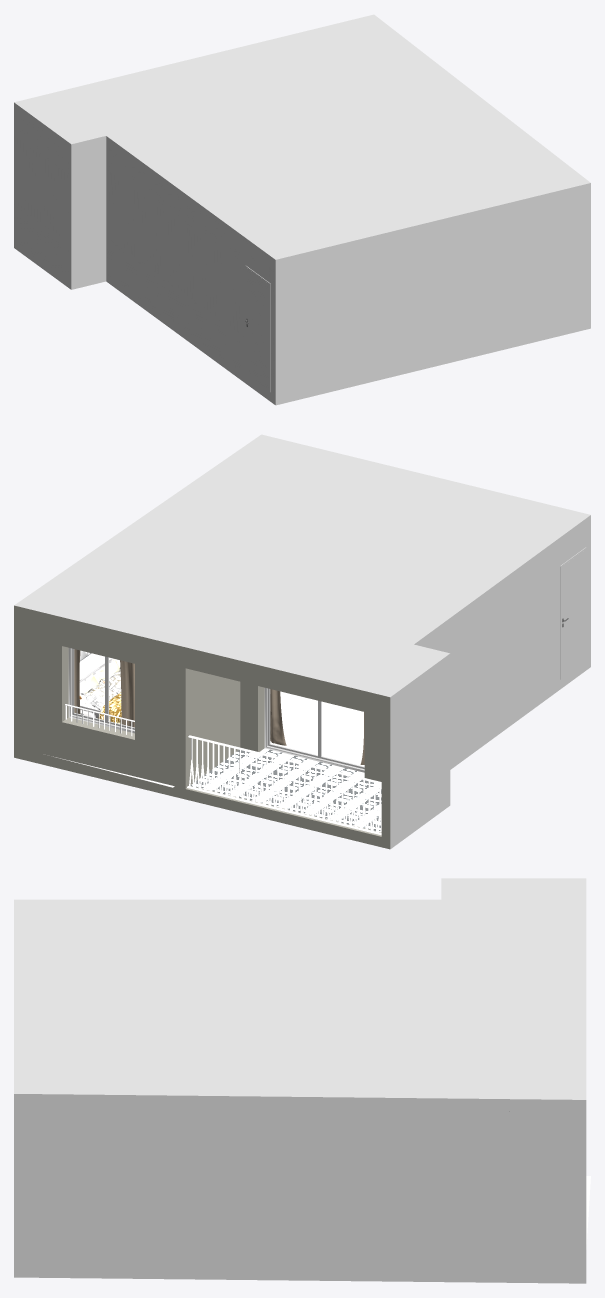
The model's file is Piso_Comparativa_Baking_Locate.gltf.
3 views of the same model, one above another, from view 1: azimuth 30°, elevation 25°; view 2: azimuth 150°, elevation 25°; view 3: azimuth 270°, elevation 25° (orthographic). The views are drawn at different scales.
Parts seen in each view (by area): view 1: ceiling_01, masonry_01, door_01; view 2: ceiling_01, masonry_01, railing_triangle_01, ground_terrace_01, ground_living_01, door_01, french_window_doble_right_01, curtain_02, curtain_01, Sombras, Cojines_Principales, Cojines_Secundarios; view 3: ceiling_01, masonry_01.
Boxes of the visible parts, left/top/right/bottom form: ceiling_01: left=14, top=14, right=590, bottom=269; masonry_01: left=14, top=112, right=590, bottom=405; door_01: left=245, top=265, right=270, bottom=391; ceiling_01: left=14, top=434, right=590, bottom=707; masonry_01: left=14, top=525, right=590, bottom=849; railing_triangle_01: left=65, top=704, right=381, bottom=835; ground_terrace_01: left=190, top=748, right=381, bottom=832; ground_living_01: left=270, top=695, right=364, bottom=766; door_01: left=560, top=547, right=586, bottom=679; french_window_doble_right_01: left=68, top=648, right=364, bottom=772; curtain_02: left=74, top=649, right=134, bottom=727; curtain_01: left=270, top=689, right=364, bottom=764; Sombras: left=53, top=653, right=294, bottom=787; Cojines_Principales: left=81, top=667, right=121, bottom=710; Cojines_Secundarios: left=79, top=659, right=119, bottom=706; ceiling_01: left=14, top=878, right=586, bottom=1112; masonry_01: left=14, top=1106, right=586, bottom=1283.
Size of the model in its own units: 7.5 by 2.9 by 8.26.
